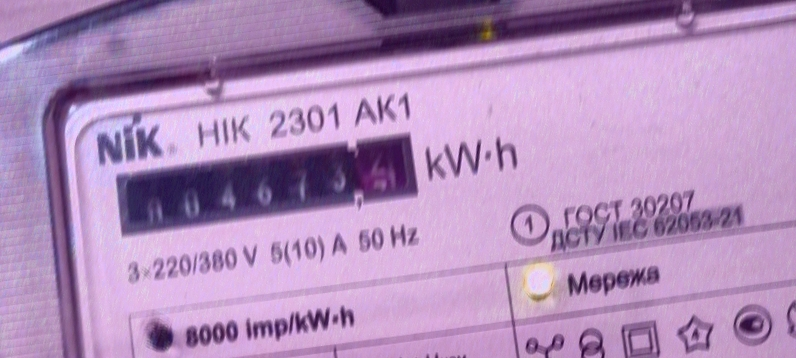0: (140, 193, 164, 225), (177, 186, 199, 219)
2: (362, 143, 387, 178)
3: (325, 158, 346, 194)
4: (214, 176, 237, 214)
6: (248, 171, 274, 208)
7: (286, 166, 313, 206)
screen: (106, 128, 423, 246)
